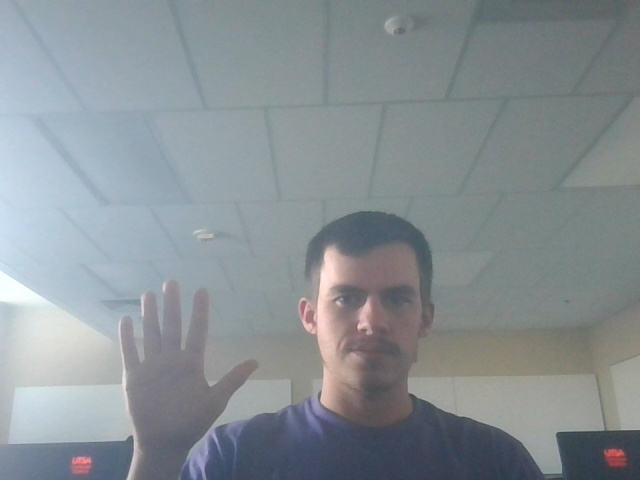hello: (109, 274, 265, 445)
